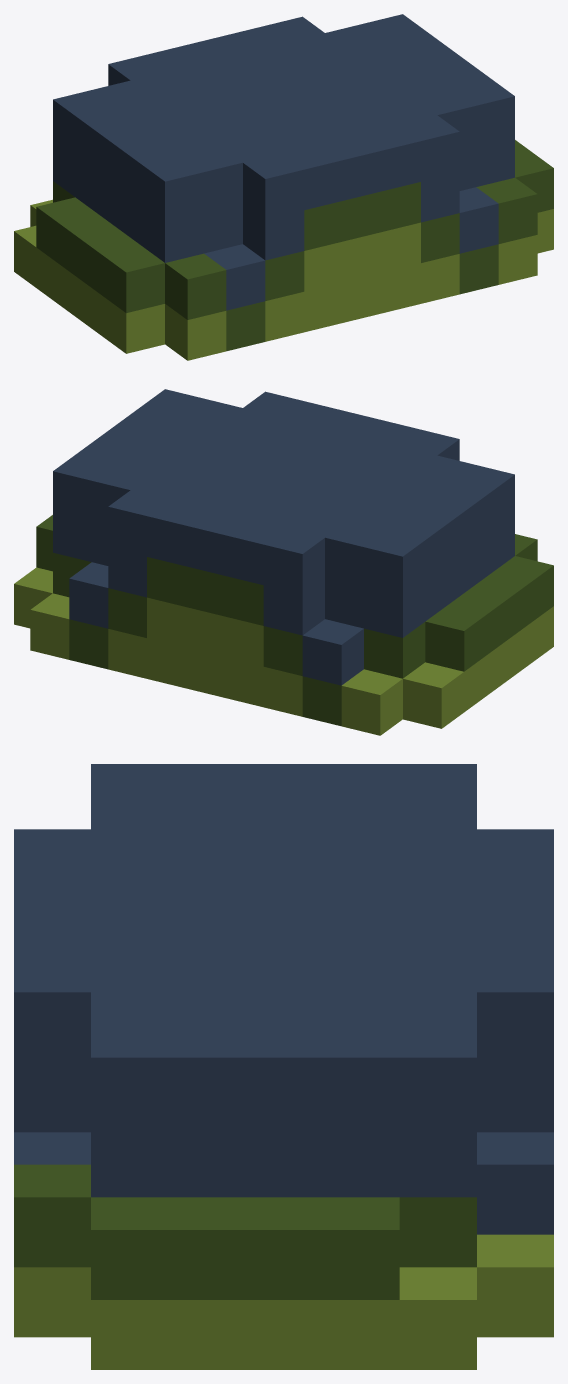
Rendered from MArcherHips.fbx.
3 views of the same model, one above another, from view 1: azimuth 30°, elevation 25°; view 2: azimuth 150°, elevation 25°; view 3: azimuth 270°, elevation 25° (orthographic). The views are drawn at different scales.
Parts seen in each view (by area): view 1: RamzaHips_1; view 2: RamzaHips_1; view 3: RamzaHips_1.
Part boxes in pixels (x1=…): RamzaHips_1: x1=14, y1=14, x2=553, y2=360; RamzaHips_1: x1=14, y1=389, x2=553, y2=735; RamzaHips_1: x1=14, y1=764, x2=553, y2=1369.
Bounding box in the file's own units: 11 × 4 × 7.
1 material, 1 textured.
